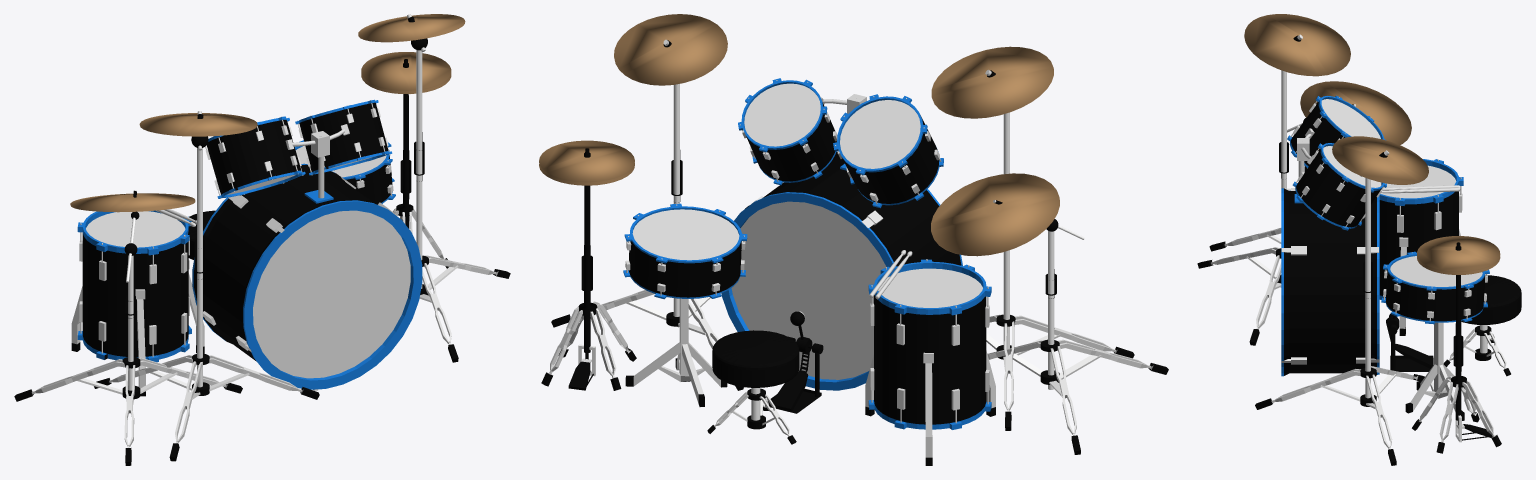
File: Drumset.glb
3 renders of one model, left to right at view 1: azimuth 30°, elevation 25°; view 2: azimuth 150°, elevation 25°; view 3: azimuth 270°, elevation 25°, orthographic. The views are drawn at different scales.
Parts seen in each view (by area): view 1: BassDrum, Floortom, Tom2, Tom1, Cylinder.003, Cylinder.011, Cylinder.006, Snare, Cylinder.017, Cylinder.001, Cylinder.014, Cylinder (+10 smaller); view 2: BassDrum, Floortom, Snare, Tom2, Cylinder.017, Tom1, Cylinder.011, Cylinder.006, Cylinder.022, Cylinder.003, object 21, object 2 (+10 smaller); view 3: BassDrum, Floortom, Snare, Cylinder.011, Tom1, Cylinder.006, Tom2, Cylinder.017, Cylinder.003, Cylinder.022, object 21, object 2 (+11 smaller).
Part boxes in pixels (x1=…): BassDrum: x1=192, y1=163, x2=422, y2=390; Floortom: x1=71, y1=210, x2=204, y2=396; Tom2: x1=205, y1=116, x2=305, y2=198; Tom1: x1=295, y1=99, x2=392, y2=175; Cylinder.003: x1=361, y1=52, x2=451, y2=93; Cylinder.011: x1=139, y1=113, x2=257, y2=136; Cylinder.006: x1=358, y1=14, x2=465, y2=42; Snare: x1=294, y1=140, x2=395, y2=204; Cylinder.017: x1=70, y1=193, x2=195, y2=212; Cylinder.001: x1=416, y1=50, x2=422, y2=288; Cylinder.014: x1=197, y1=148, x2=202, y2=387; Cylinder: x1=396, y1=59, x2=413, y2=228; BassDrum: x1=721, y1=151, x2=962, y2=390; Floortom: x1=865, y1=259, x2=995, y2=465; Snare: x1=623, y1=203, x2=747, y2=299; Tom2: x1=833, y1=94, x2=943, y2=208; Cylinder.017: x1=931, y1=173, x2=1059, y2=256; Tom1: x1=738, y1=78, x2=837, y2=185; Cylinder.011: x1=931, y1=46, x2=1053, y2=118; Cylinder.006: x1=614, y1=14, x2=727, y2=85; Cylinder.022: x1=712, y1=330, x2=799, y2=387; Cylinder.003: x1=539, y1=140, x2=634, y2=185; object 21: x1=625, y1=298, x2=727, y2=406; object 2: x1=768, y1=311, x2=823, y2=413; BassDrum: x1=1281, y1=188, x2=1379, y2=376; Floortom: x1=1379, y1=159, x2=1463, y2=335; Snare: x1=1381, y1=251, x2=1489, y2=324; Cylinder.011: x1=1244, y1=14, x2=1350, y2=76; Tom1: x1=1292, y1=143, x2=1386, y2=230; Cylinder.006: x1=1332, y1=136, x2=1428, y2=184; Tom2: x1=1287, y1=95, x2=1385, y2=167; Cylinder.017: x1=1300, y1=81, x2=1411, y2=144; Cylinder.003: x1=1417, y1=236, x2=1500, y2=274; Cylinder.022: x1=1461, y1=275, x2=1521, y2=324; object 21: x1=1405, y1=322, x2=1464, y2=420; object 2: x1=1386, y1=314, x2=1433, y2=371.
Bounding box in the file's own units: 2.35 × 1.36 × 1.44.
